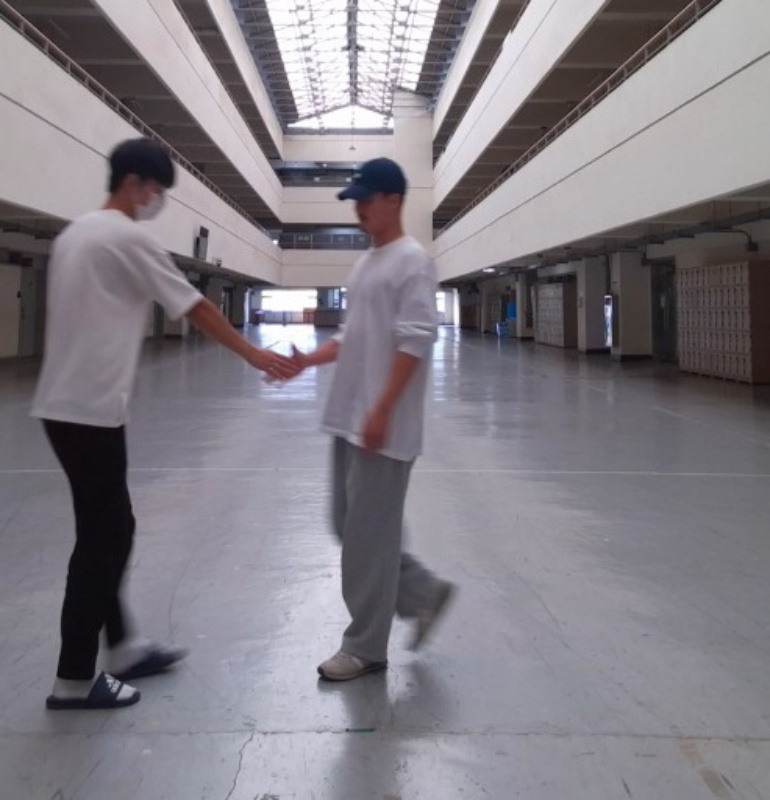person: (291, 156, 458, 685)
